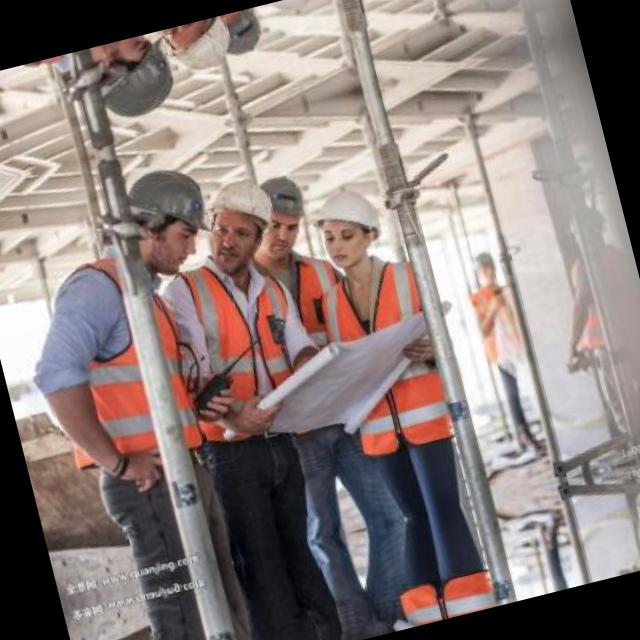helmet: (104, 157, 218, 289), (72, 30, 180, 133), (195, 175, 279, 272), (304, 182, 384, 270), (238, 170, 315, 260), (154, 15, 231, 79), (196, 6, 266, 64), (562, 198, 608, 252), (466, 245, 499, 288), (255, 0, 322, 21)
